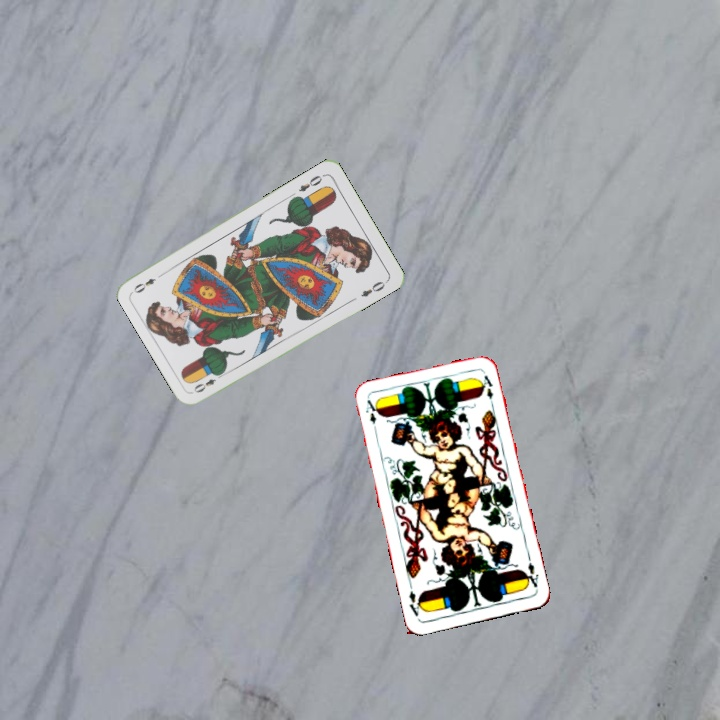EA: (362, 395, 381, 436), (520, 558, 541, 590)
EO: (190, 369, 227, 396), (294, 170, 327, 194)
